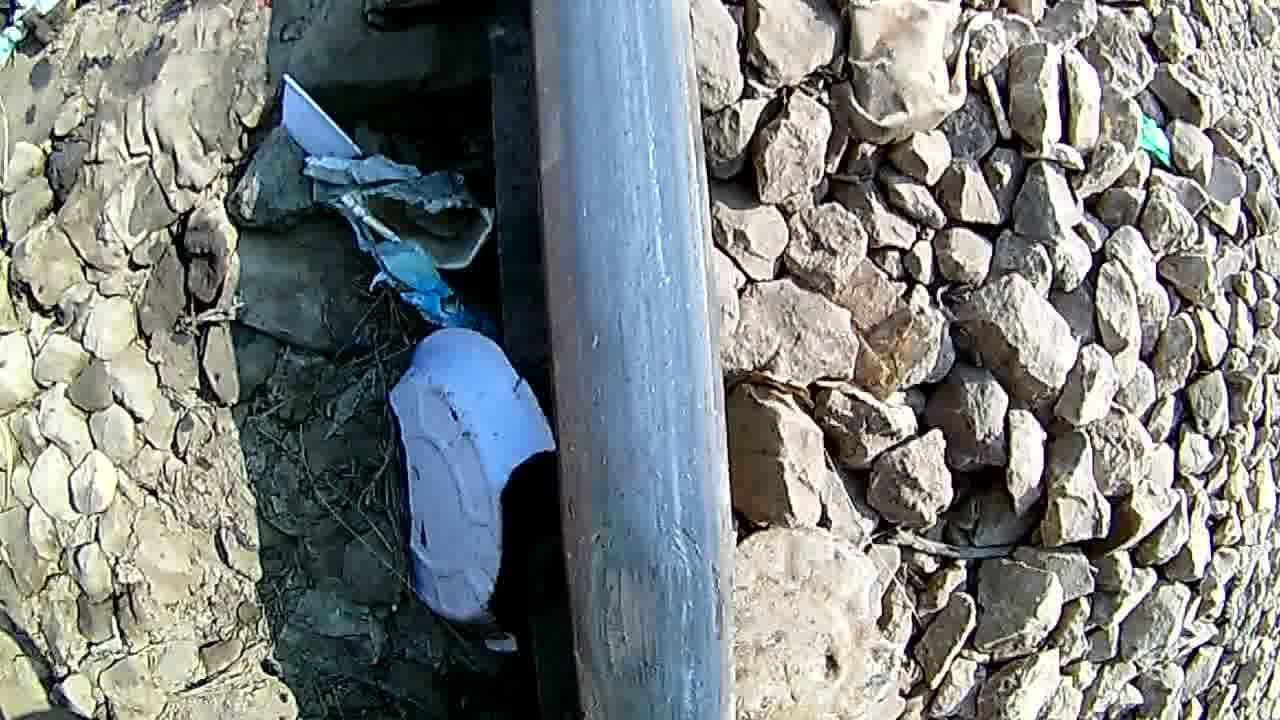crack: (538, 410, 752, 720)
